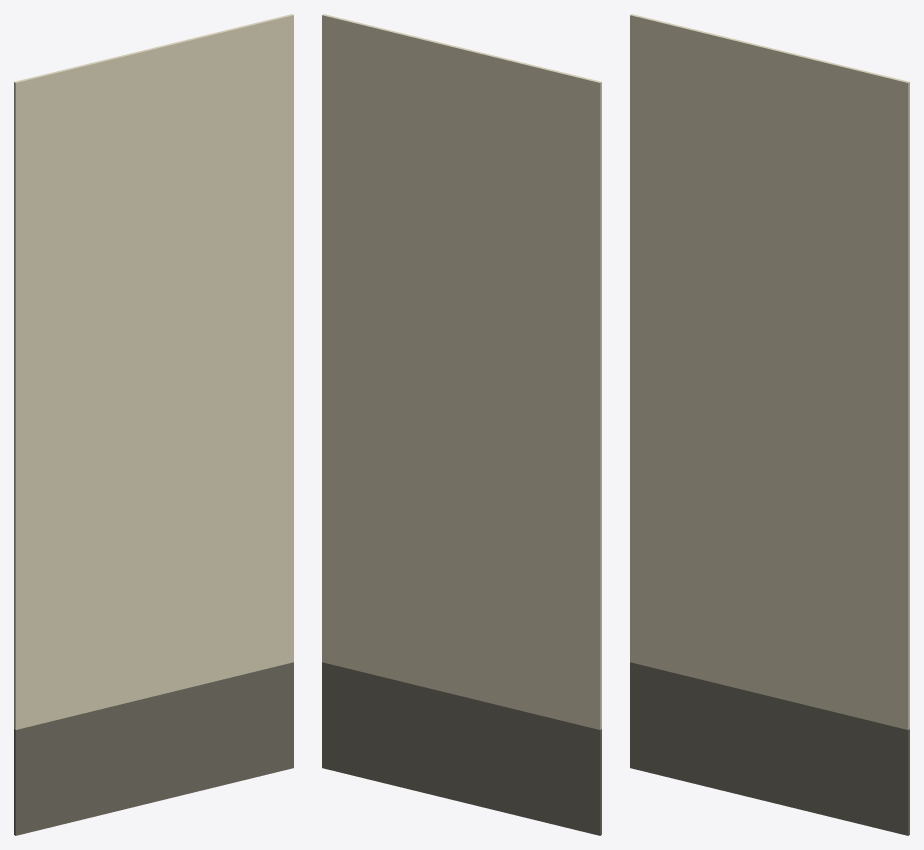
File: factory4.3-41.obj
3 views of the same model, side by side, from view 1: azimuth 30°, elevation 25°; view 2: azimuth 150°, elevation 25°; view 3: azimuth 330°, elevation 25° (orthographic).
Bounding box in the file's own units: 9.9 × 25.6 × 0.1.
Materials: 1 (1 with a texture image).
